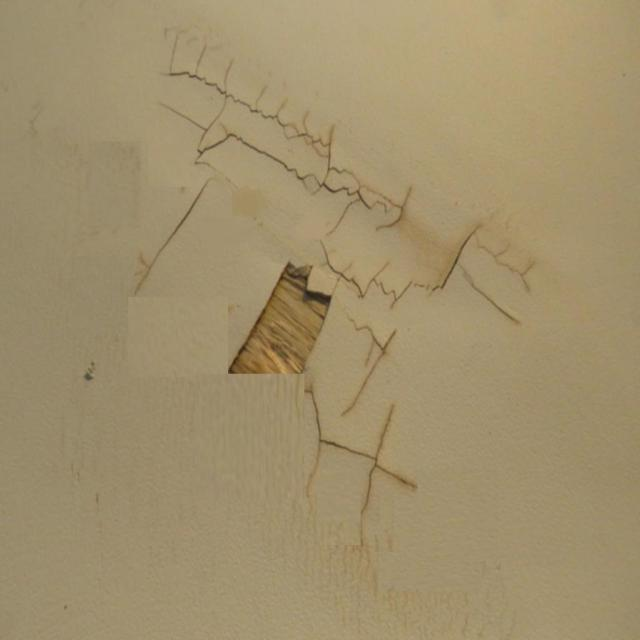crack: (166, 73, 408, 224), (319, 232, 522, 320), (319, 406, 427, 508), (136, 182, 212, 290), (340, 333, 398, 418)
surface_peeling: (219, 258, 338, 380)
